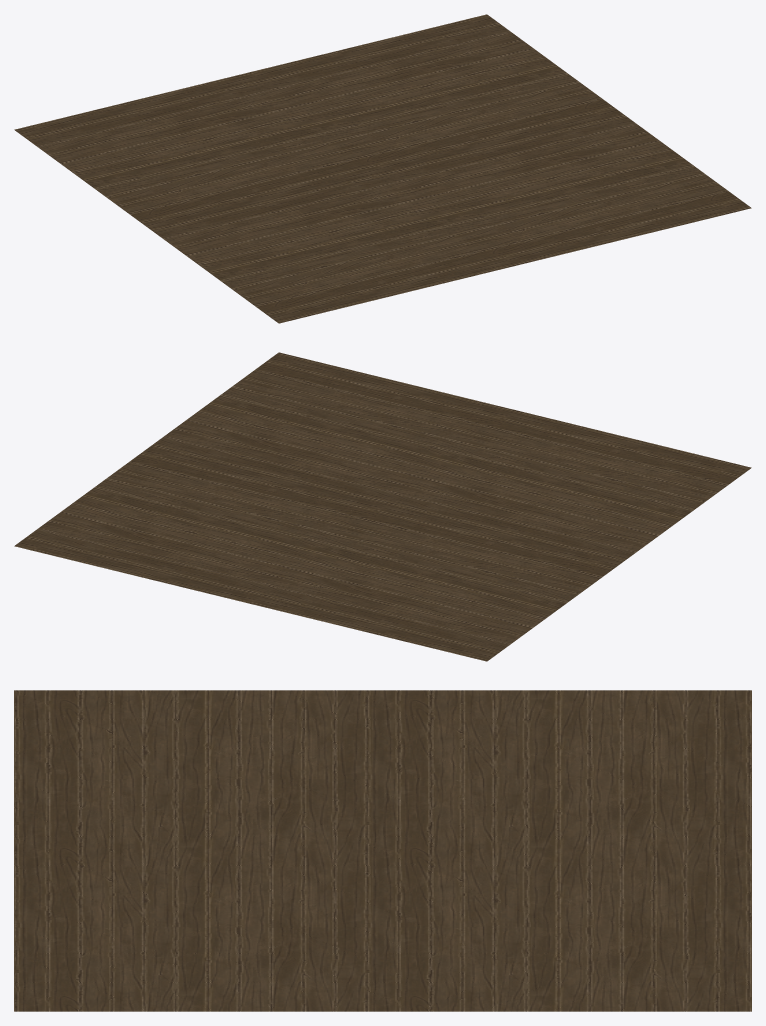
The model's file is SM_Ground_01.fbx.
3 renders of one model, top to bottom at view 1: azimuth 30°, elevation 25°; view 2: azimuth 150°, elevation 25°; view 3: azimuth 270°, elevation 25°, orthographic. The views are drawn at different scales.
Visible parts, largest first — view 1: polySurface3618; view 2: polySurface3618; view 3: polySurface3618.
Part boxes in pixels (box(x1,y1,x2,y2)): polySurface3618: box(14, 14, 751, 323); polySurface3618: box(14, 352, 751, 661); polySurface3618: box(14, 690, 751, 1011).
Bounding box in the file's own units: 860 × 0 × 834.
1 material, 1 textured.
